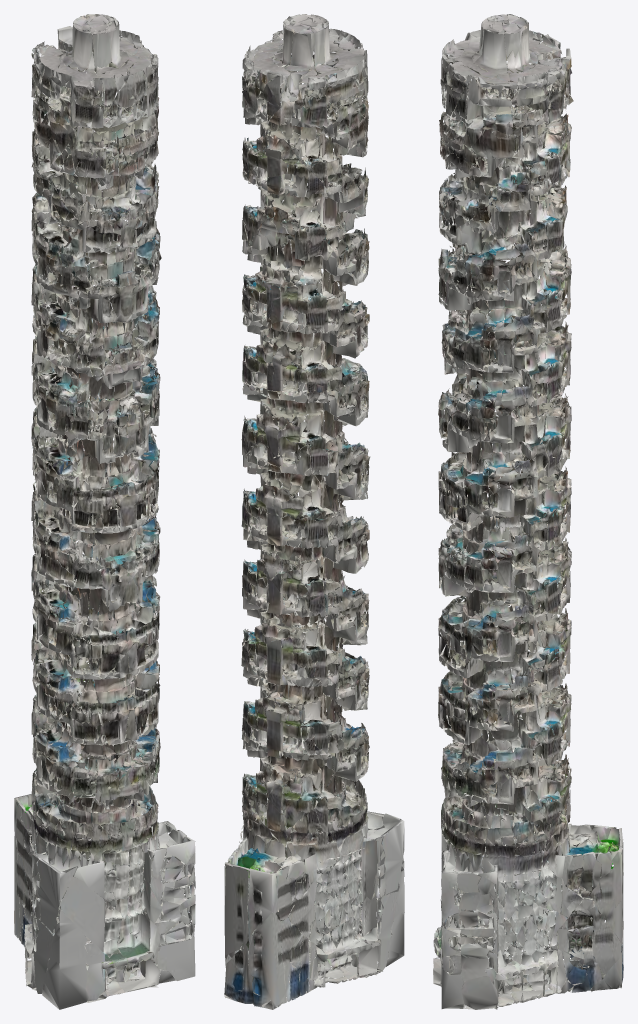
File: five-jvh.glb
3 views of the same model, side by side, from view 1: azimuth 30°, elevation 25°; view 2: azimuth 150°, elevation 25°; view 3: azimuth 270°, elevation 25° (orthographic).
Visible parts, largest first — view 1: Mesh_0; view 2: Mesh_0; view 3: Mesh_0.
Part boxes in pixels (x1=…): Mesh_0: x1=14, y1=14, x2=195, y2=1009; Mesh_0: x1=224, y1=14, x2=404, y2=1009; Mesh_0: x1=433, y1=14, x2=623, y2=1009.
Bounding box in the file's own units: 44.92 × 277 × 50.
Materials: 1 (1 with a texture image).
